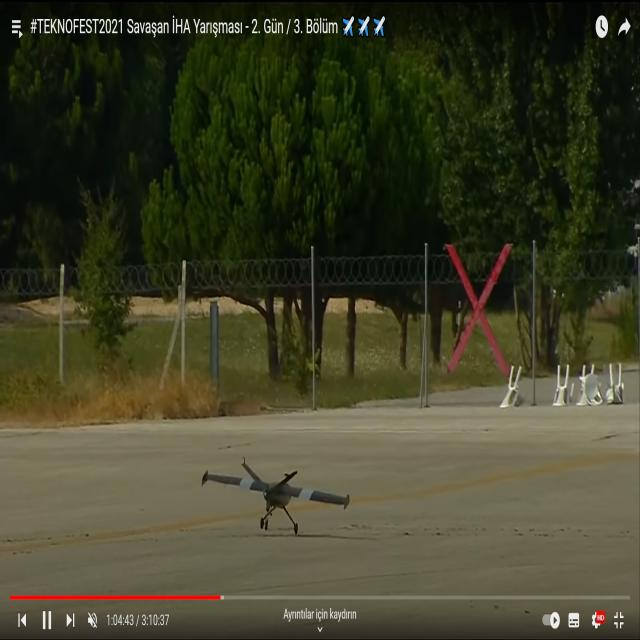iha: (200, 488, 351, 507)
